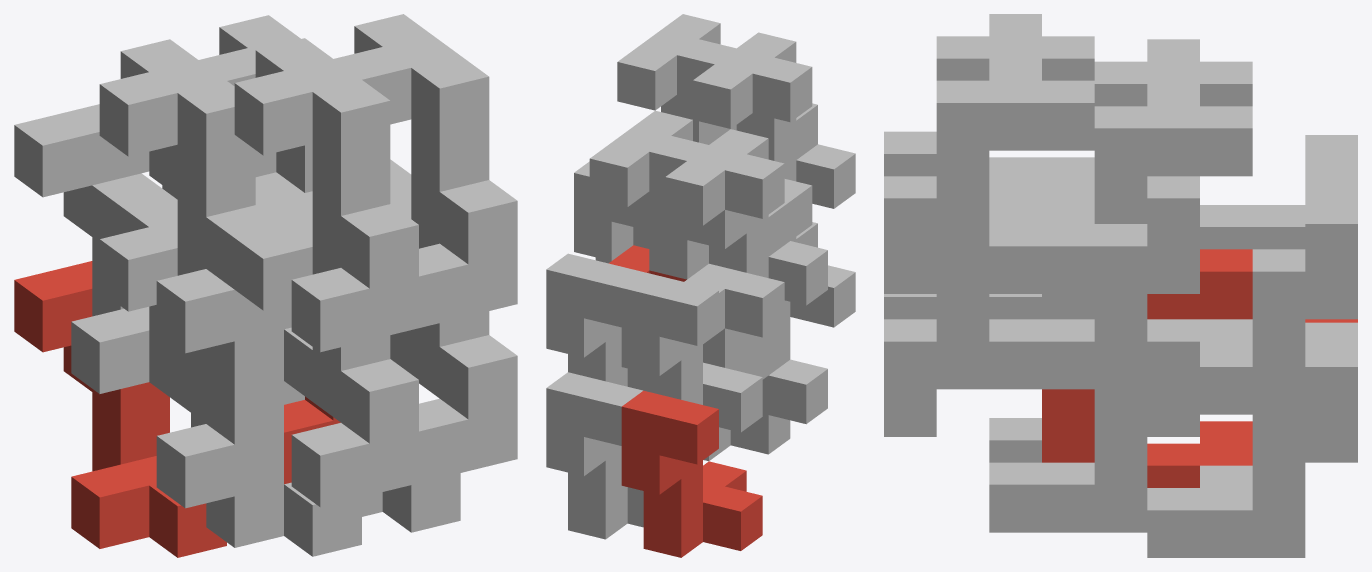
Rendered from tiling.obj.
The picture shows the model from 3 angles, left to right: view 1: azimuth 30°, elevation 25°; view 2: azimuth 150°, elevation 25°; view 3: azimuth 270°, elevation 25°; orthographic projection. The views are drawn at different scales.
Visible parts, largest first — view 1: copy_2_domain_4, copy_2_domain_3, copy_2_domain_8, copy_2_domain_2, copy_2_domain_1, copy_1_domain_1, copy_1_domain_3, copy_2_domain_6, copy_1_domain_2, copy_1_domain_4, copy_2_domain_7, copy_1_domain_6 (+2 smaller); view 2: copy_1_domain_1, copy_2_domain_3, copy_2_domain_4, copy_1_domain_3, copy_1_domain_5, copy_2_domain_1, copy_1_domain_7, copy_2_domain_8, copy_2_domain_7, copy_1_domain_4, copy_1_domain_8, copy_2_domain_2 (+2 smaller); view 3: copy_2_domain_8, copy_1_domain_5, copy_1_domain_8, copy_2_domain_6, copy_1_domain_6, copy_1_domain_7, copy_2_domain_7, copy_2_domain_4, copy_2_domain_5, copy_2_domain_3, copy_1_domain_3, copy_1_domain_1 (+4 smaller).
Part boxes in pixels (x1,y1,x2,y2): copy_2_domain_4: [234, 38, 418, 352]; copy_2_domain_3: [99, 39, 283, 353]; copy_2_domain_8: [334, 14, 517, 327]; copy_2_domain_2: [234, 193, 418, 507]; copy_2_domain_1: [99, 194, 283, 508]; copy_1_domain_1: [14, 261, 226, 557]; copy_1_domain_3: [14, 104, 177, 402]; copy_2_domain_6: [390, 169, 517, 482]; copy_1_domain_2: [149, 305, 361, 556]; copy_1_domain_4: [149, 144, 312, 401]; copy_2_domain_7: [199, 15, 312, 329]; copy_1_domain_6: [362, 473, 460, 532]; copy_1_domain_1: [621, 390, 762, 557]; copy_2_domain_3: [665, 129, 827, 305]; copy_2_domain_4: [693, 32, 855, 208]; copy_1_domain_3: [621, 272, 762, 432]; copy_1_domain_5: [546, 372, 643, 539]; copy_2_domain_1: [684, 257, 827, 424]; copy_1_domain_7: [546, 253, 643, 390]; copy_2_domain_8: [617, 14, 736, 144]; copy_2_domain_7: [589, 110, 708, 248]; copy_1_domain_4: [649, 191, 790, 335]; copy_1_domain_8: [574, 161, 649, 263]; copy_2_domain_2: [784, 160, 855, 327]; copy_2_domain_8: [884, 58, 1094, 293]; copy_1_domain_5: [1147, 322, 1357, 557]; copy_1_domain_8: [989, 176, 1199, 389]; copy_2_domain_6: [884, 201, 1094, 436]; copy_1_domain_6: [989, 319, 1199, 532]; copy_1_domain_7: [1200, 179, 1357, 414]; copy_2_domain_7: [1042, 84, 1252, 319]; copy_2_domain_4: [884, 14, 1094, 176]; copy_2_domain_5: [1042, 249, 1252, 462]; copy_2_domain_3: [1042, 39, 1252, 179]; copy_1_domain_3: [1200, 135, 1357, 322]; copy_1_domain_1: [1147, 319, 1357, 487].
Bounding box in the file's own units: 5 × 10 × 9.
